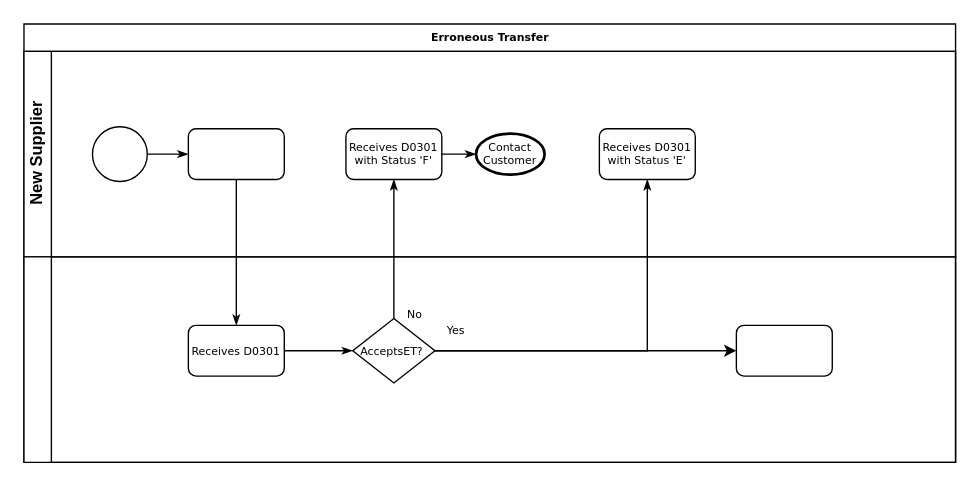
The diagram is 980 pixels wide and 486 high, and some of its shapes have lost their labels. The shapes that lost their labels are listed below. From the top down, each one's box as (x1, y1, x2, y2) in pixels, then its label:
(91, 125, 147, 182): Customer Contacts
(187, 127, 284, 179): Sends D0301 with Status 'A'
(23, 256, 956, 462): Old Supplier
(735, 324, 832, 376): Generate D0055
